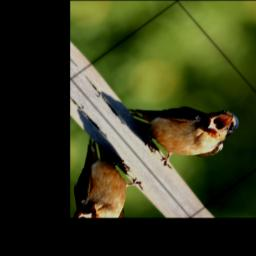Swallow: (119, 62, 249, 183)
